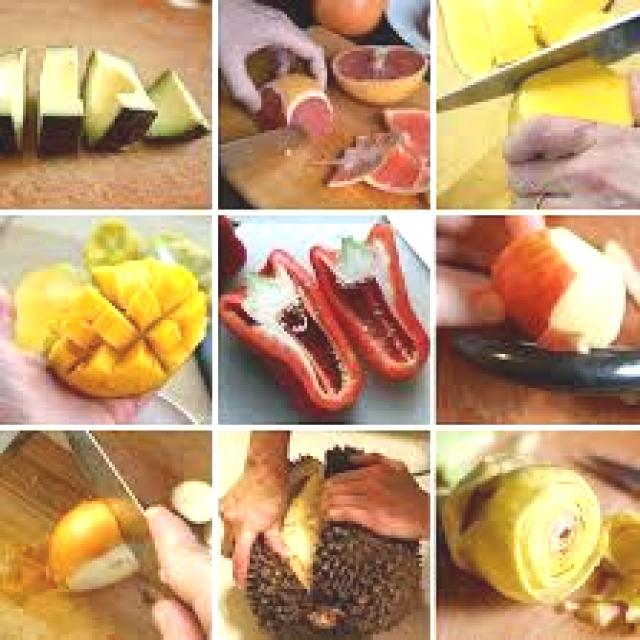wet: (237, 250, 422, 398), (252, 43, 429, 195), (458, 454, 593, 580), (502, 218, 625, 350), (3, 56, 185, 134), (440, 0, 622, 78), (55, 284, 213, 368), (513, 58, 628, 127), (312, 0, 385, 37)
